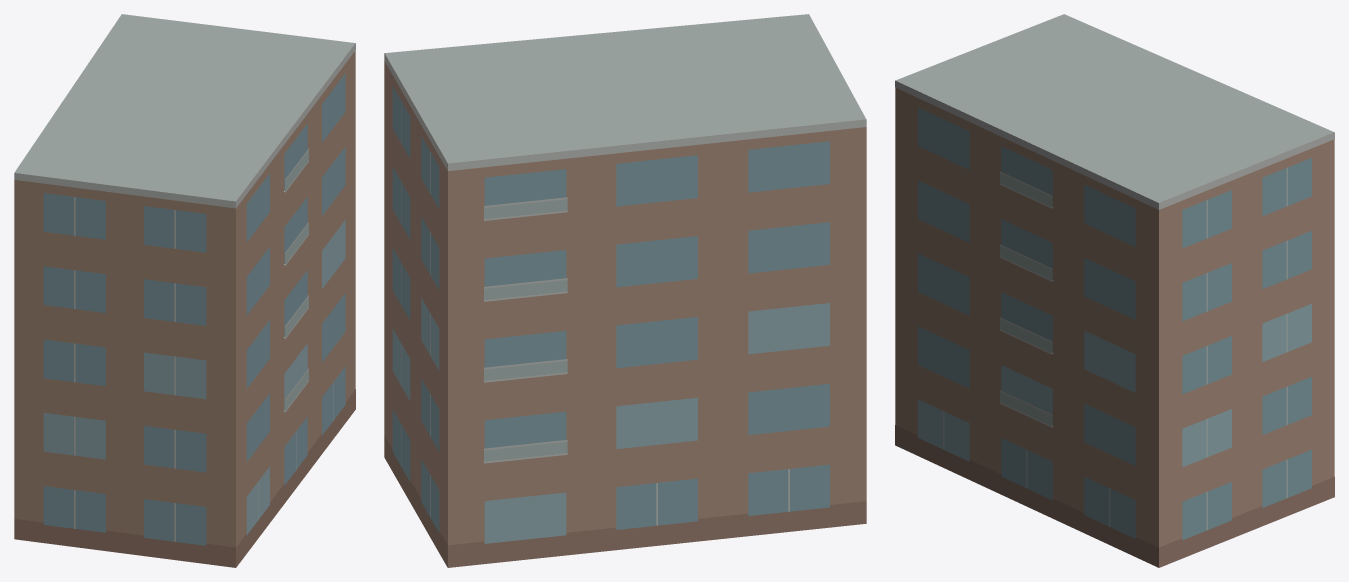
File: survey-upis-32979909.glb
3 views of the same model, side by side, from view 1: azimuth 30°, elevation 25°; view 2: azimuth 150°, elevation 25°; view 3: azimuth 270°, elevation 25° (orthographic). The views are drawn at different scales.
Parts seen in each view (by area): view 1: survey-upis-32979909.tmp; view 2: survey-upis-32979909.tmp; view 3: survey-upis-32979909.tmp.
Part boxes in pixels (x1=…): survey-upis-32979909.tmp: x1=14, y1=14, x2=355, y2=567; survey-upis-32979909.tmp: x1=384, y1=14, x2=866, y2=567; survey-upis-32979909.tmp: x1=895, y1=14, x2=1334, y2=567.
Size of the model in its own units: 14.46 by 13 by 14.2.
